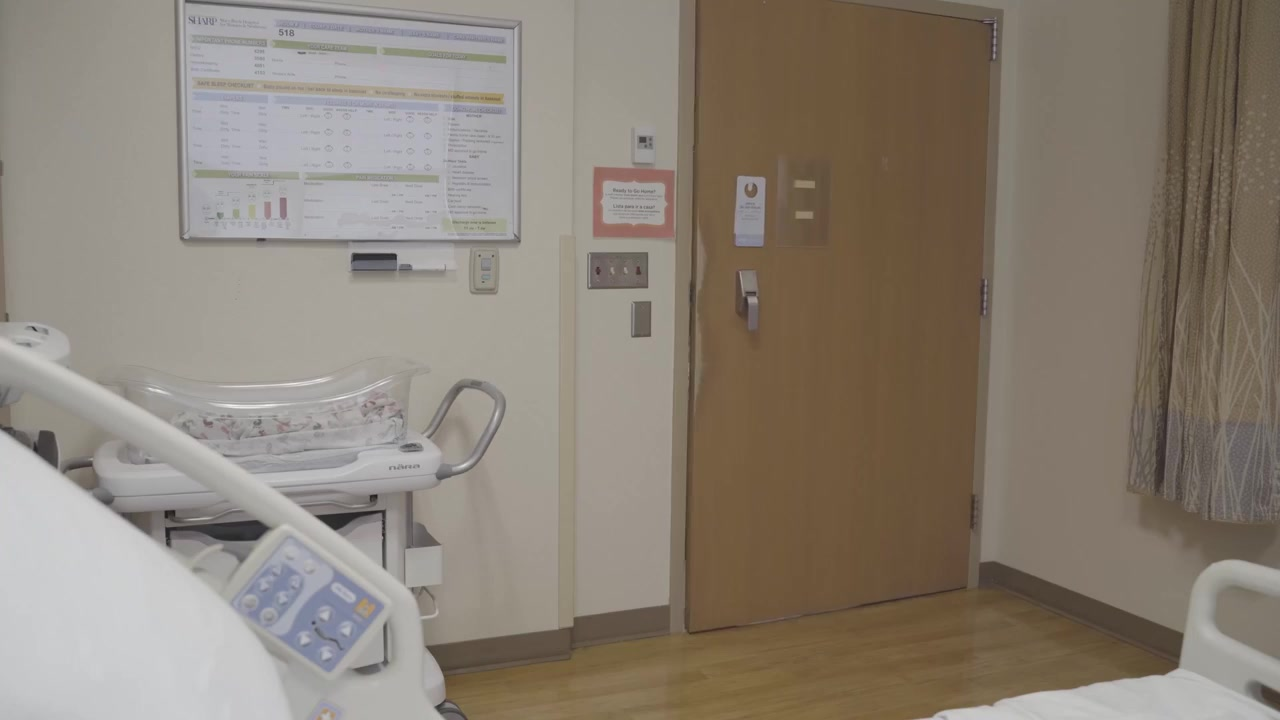bedrail: (1, 335, 446, 720)
curtain: (1127, 1, 1280, 528)
door_handle: (733, 266, 766, 339)
foot_board: (1178, 559, 1280, 720)
hospital_bed: (1, 336, 1280, 720)
light_switch: (586, 253, 649, 289)
